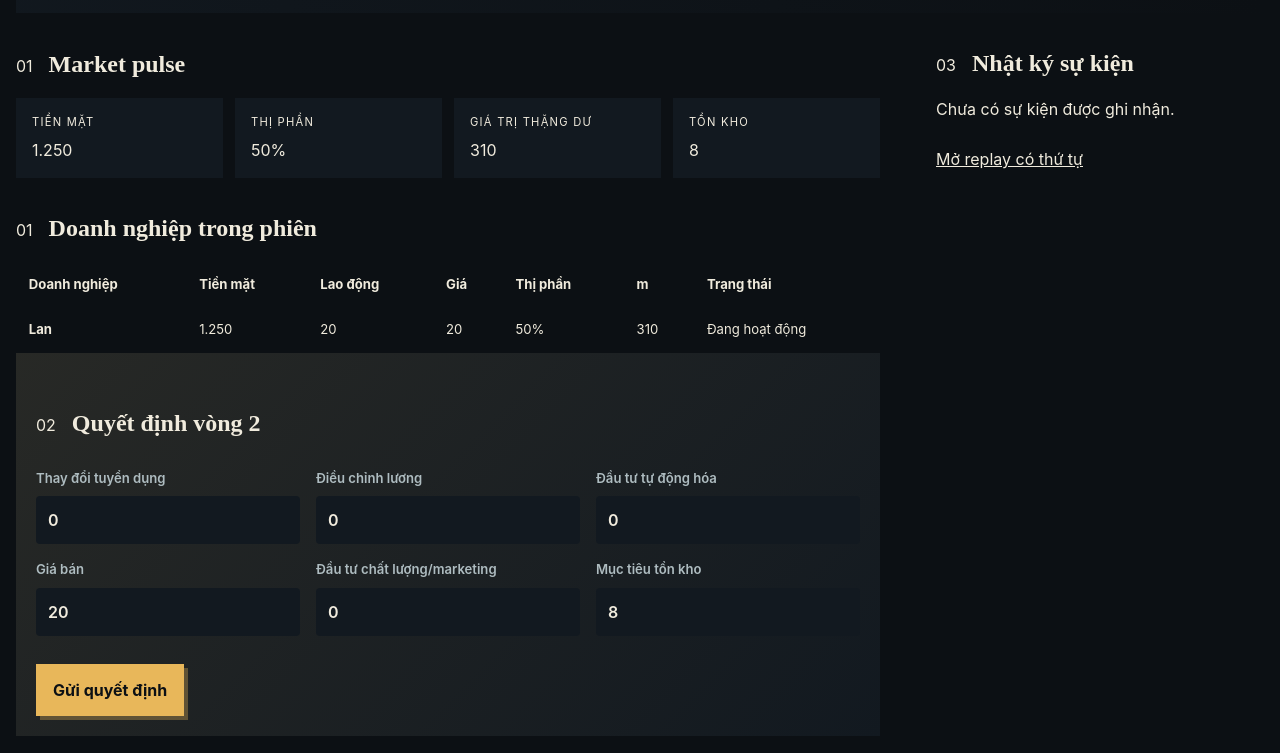
Test case: ArenaGamePage › submits a decision against the snapshot state version
(page scrolled)
Click the button "Gửi quyết định" at (110, 690), box [36, 664, 184, 716]
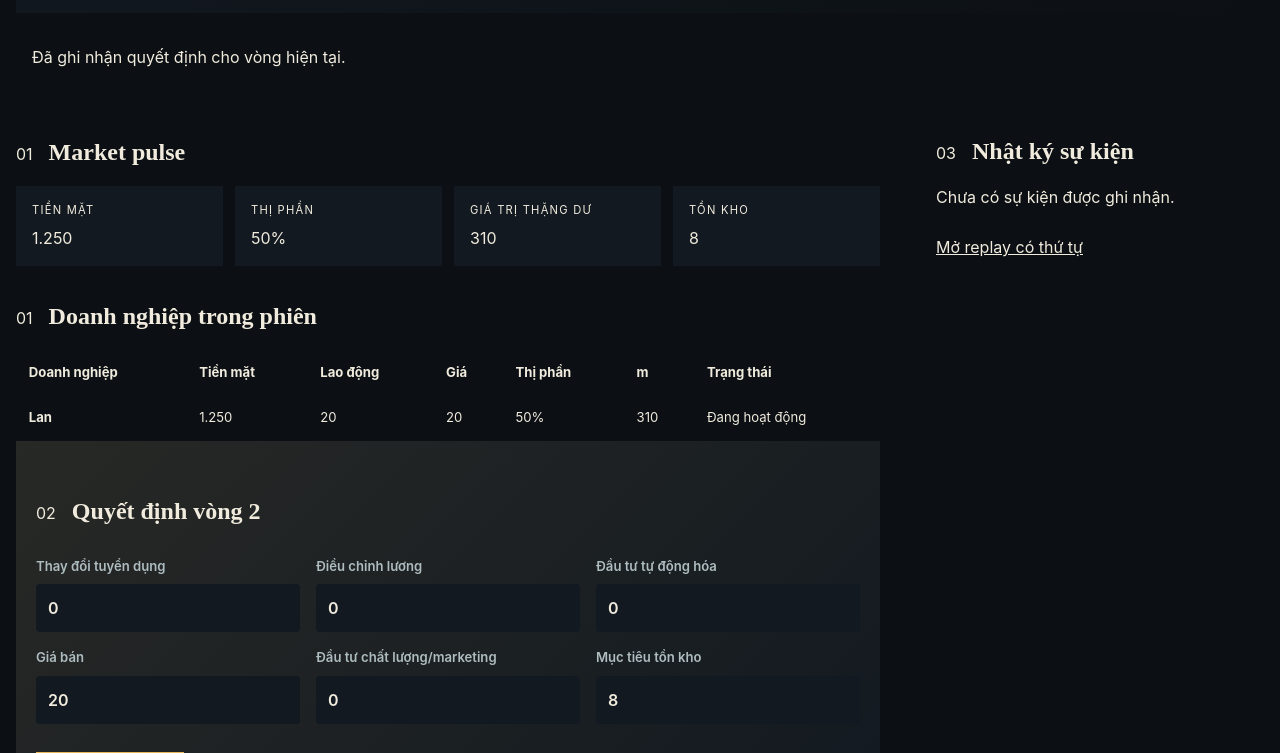
Expected: the text "Đã ghi nhận quyết định cho vòng hiện tại." is shown, [32, 47, 346, 67]
